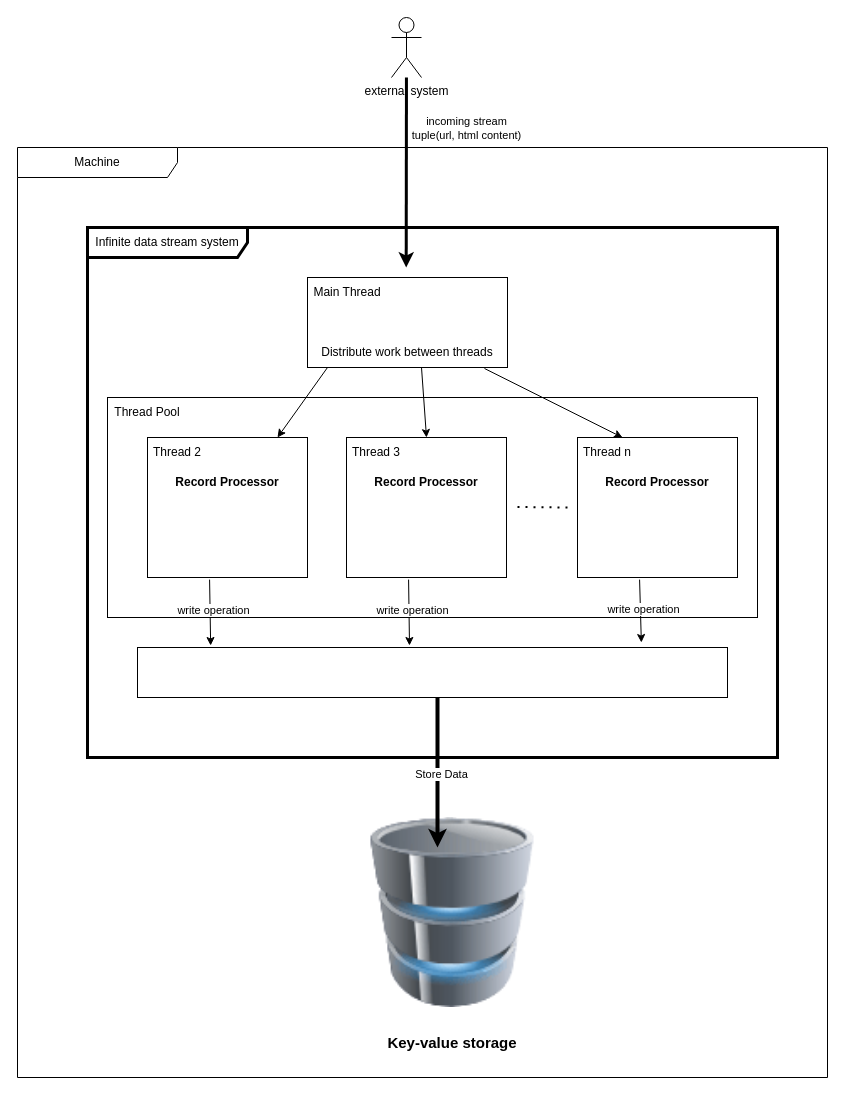
This 845x1095 diagram has some shape labels left out. The box of each missing label's shape, as (x1, y1, x2, y2) in pixels:
Record Receiver: (306, 276, 508, 368)
«layer» Persistence Layer: (136, 646, 728, 698)
